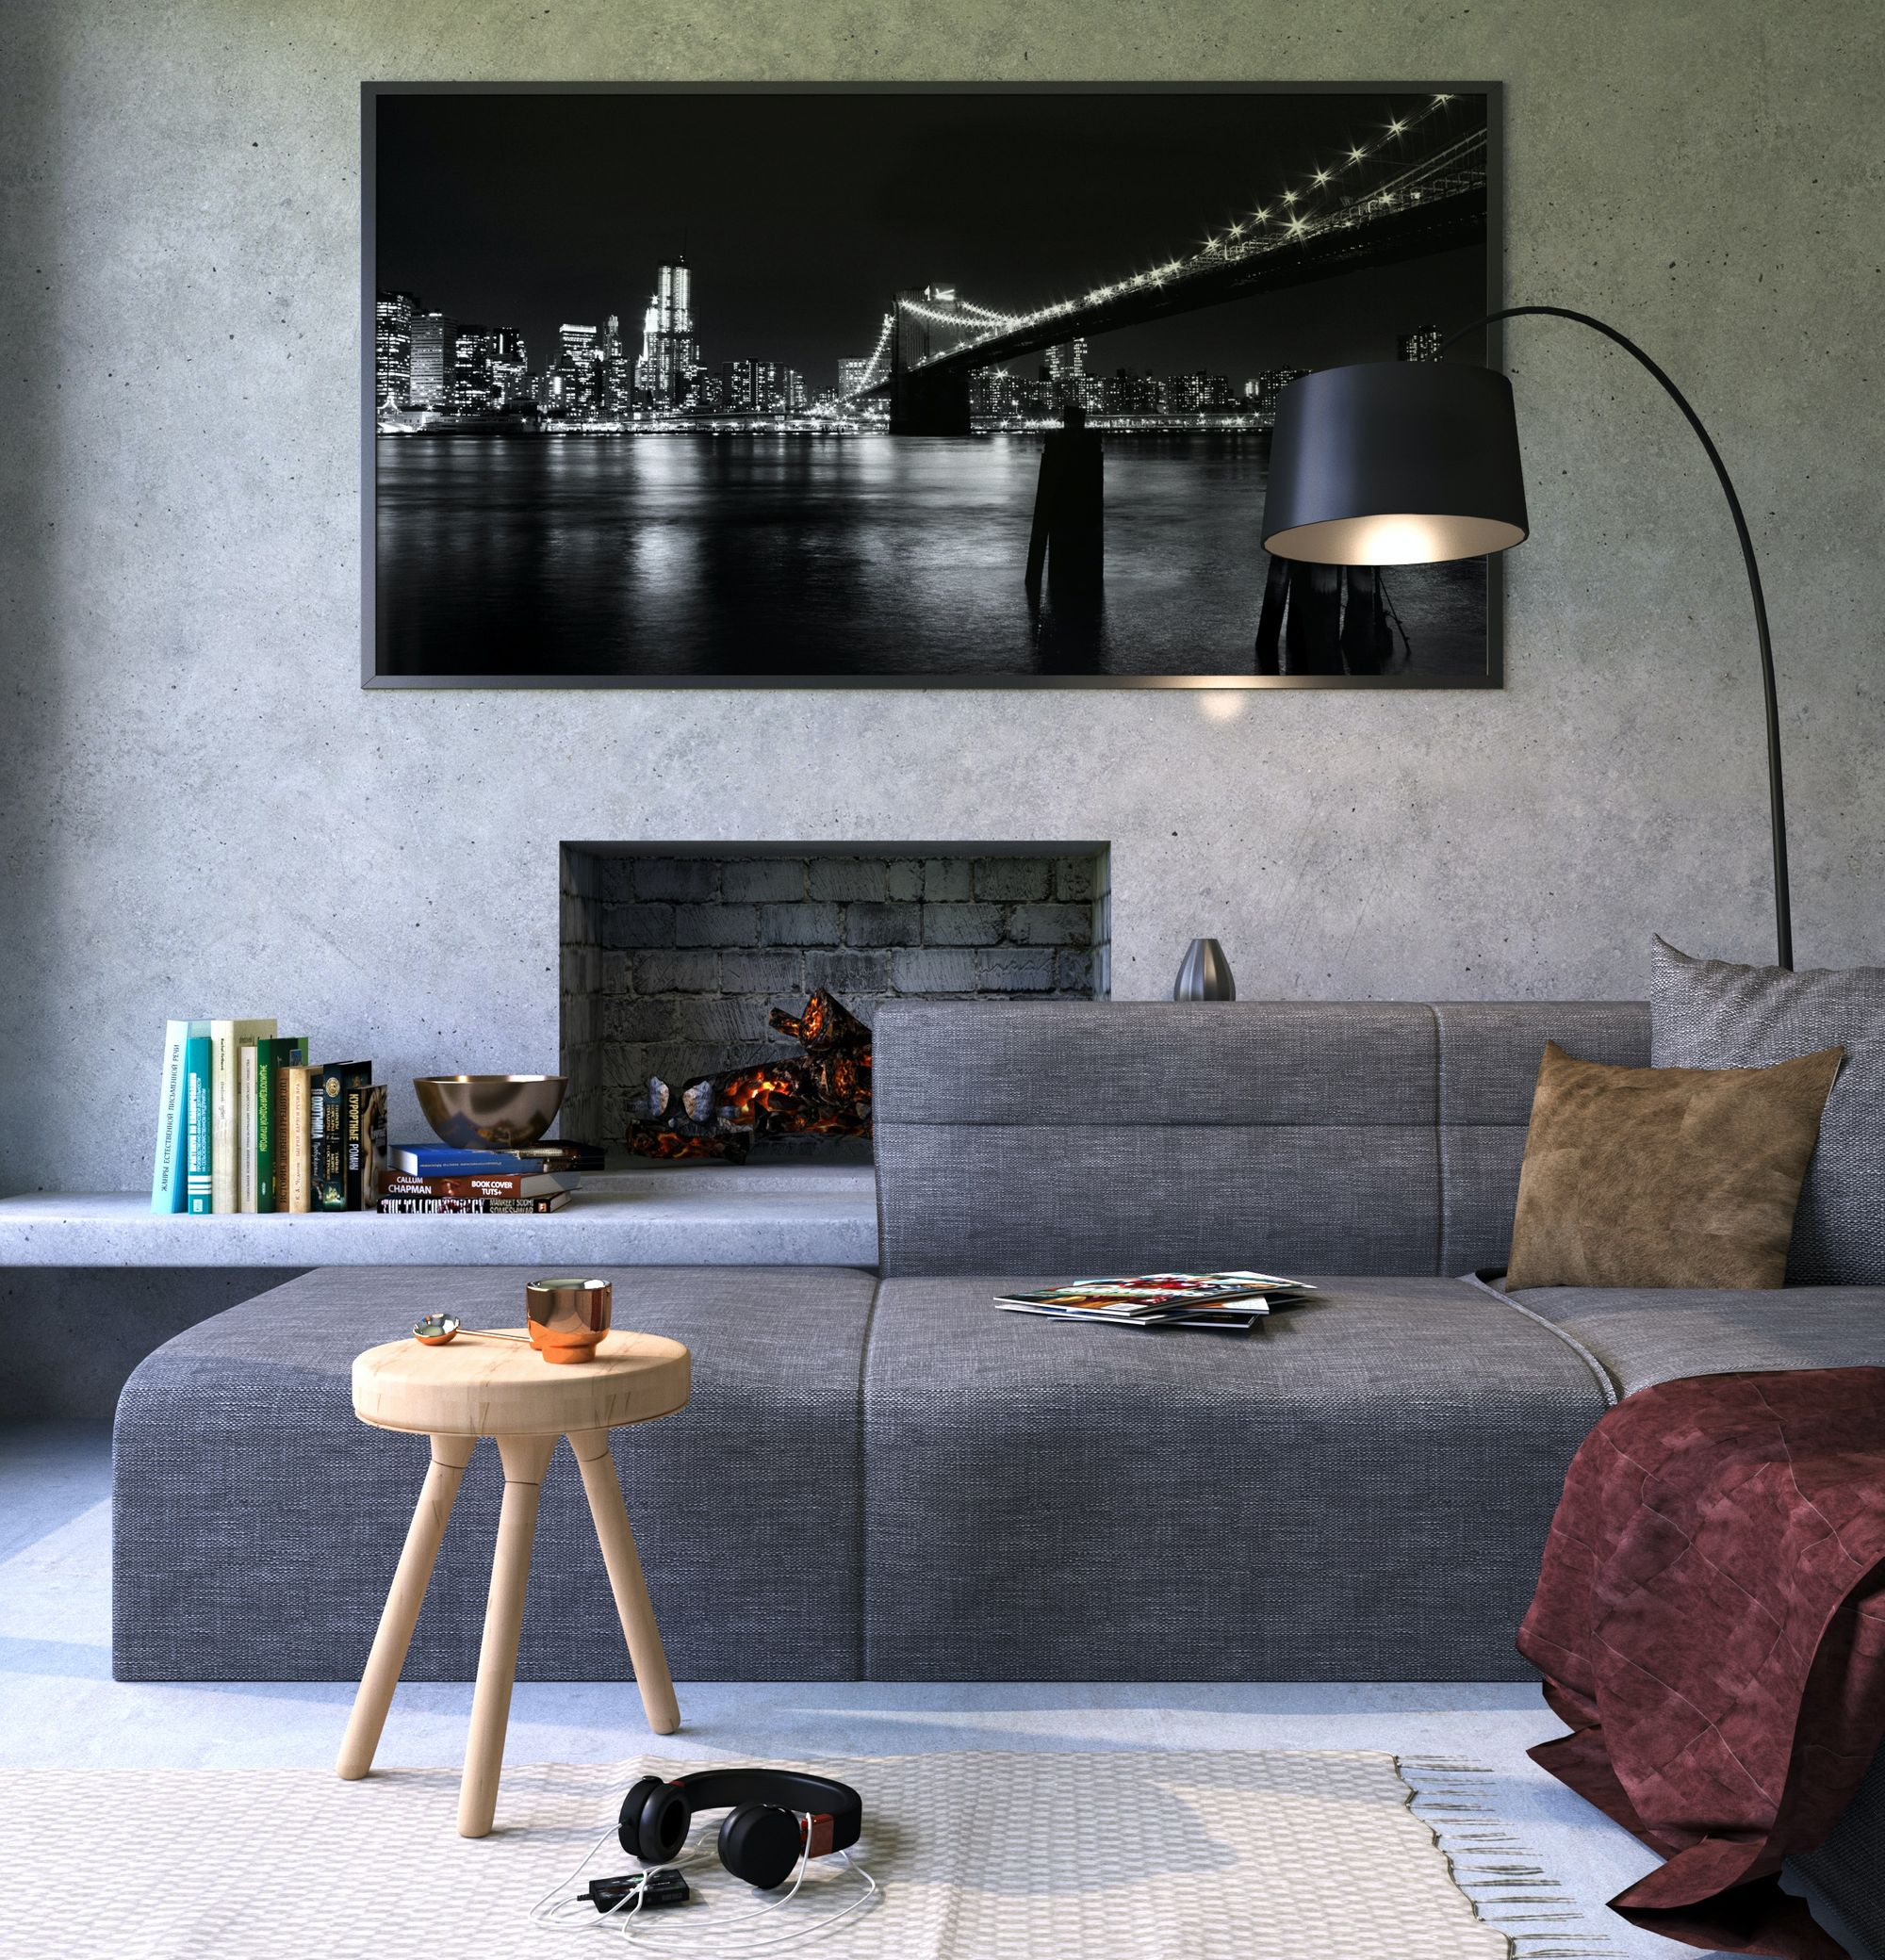bantal: (1510, 1038, 1806, 1288)
buku: (140, 1006, 396, 1214), (1010, 1241, 1311, 1342), (389, 1150, 578, 1213)
gelas: (518, 1267, 618, 1370)
lampu: (1269, 310, 1852, 976)
lukisan: (352, 82, 1516, 693)
meja: (329, 1281, 714, 1822)
sova: (114, 1025, 1873, 1676)
